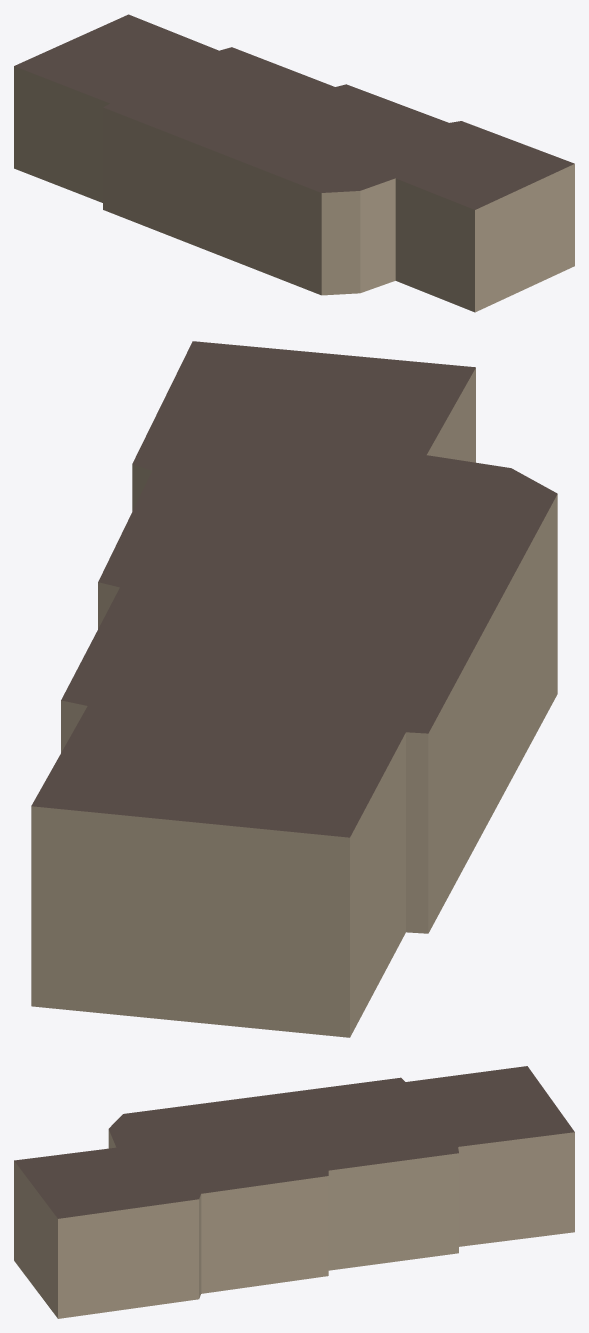
3 renders of one model, top to bottom at view 1: azimuth 30°, elevation 25°; view 2: azimuth 150°, elevation 25°; view 3: azimuth 270°, elevation 25°, orthographic. The views are drawn at different scales.
Visible parts, largest first — view 1: HP-w293414310; view 2: HP-w293414310; view 3: HP-w293414310.
Boxes of the visible parts, box(x1,y1,x2,y2) form: HP-w293414310: box(14, 14, 574, 312); HP-w293414310: box(31, 341, 557, 1037); HP-w293414310: box(14, 1066, 574, 1318).
Size of the model in its own units: 29.49 by 9 by 45.72.
